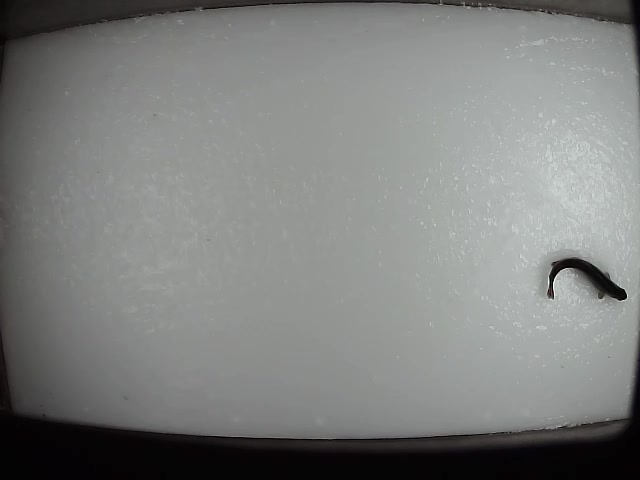Fish: (547, 257, 628, 301)
